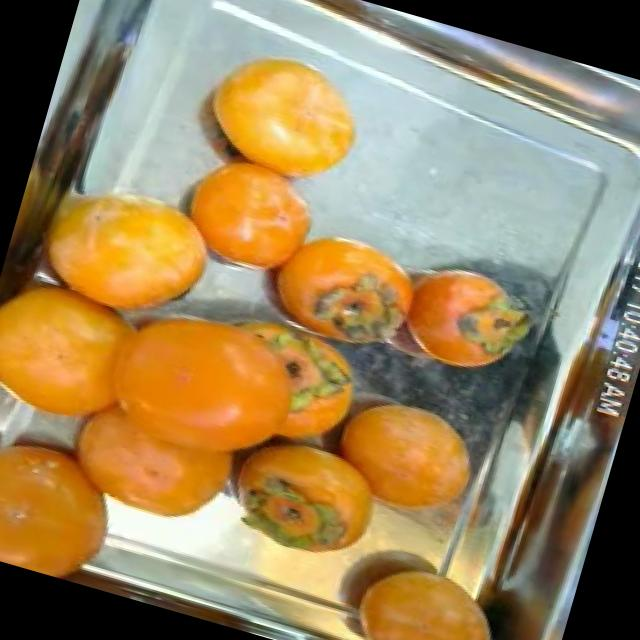Fruit: (175, 23, 388, 210), (299, 364, 503, 548), (369, 235, 554, 390), (315, 532, 530, 640)
